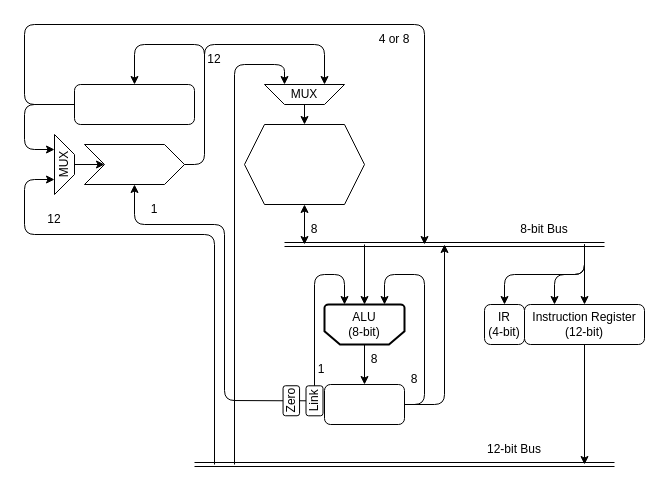
Some shapes in this 662 by 490 pixel diagram are drawn without their labels. Each missing label, with the box of its shape:
Memory (4,096 kilobytes) (12-bit Address) (8-bit Data): (244, 124, 364, 204)
PC (12-bit): (84, 144, 184, 184)
RER Register (12-bit): (74, 84, 194, 124)
RRA Register (8-bit): (324, 384, 404, 424)
